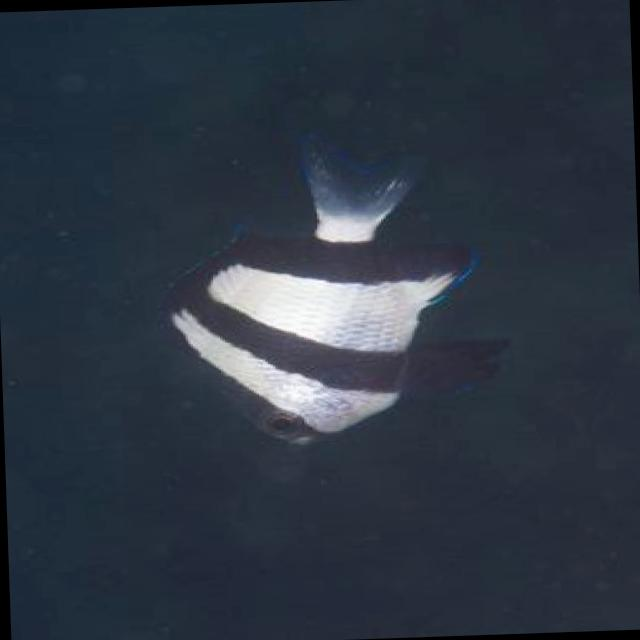ThreeStripedDamselfish: (167, 129, 510, 443)
